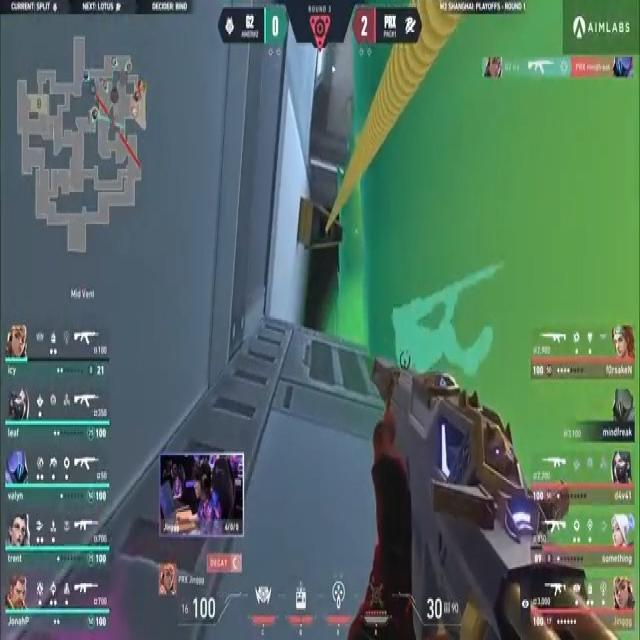ally behind wall: (388, 255, 510, 380)
